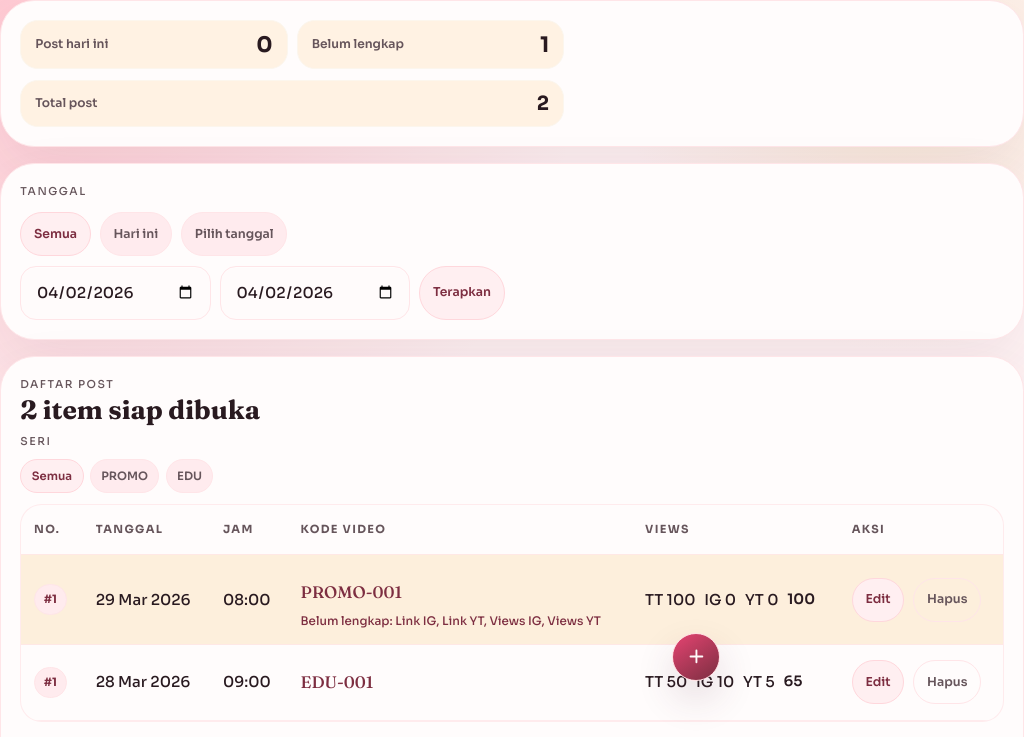
it: OperasionalScreen › shows incomplete hints and can filter to todays posts
Click the button "Hari ini" at (136, 234), box [100,212,172,256]
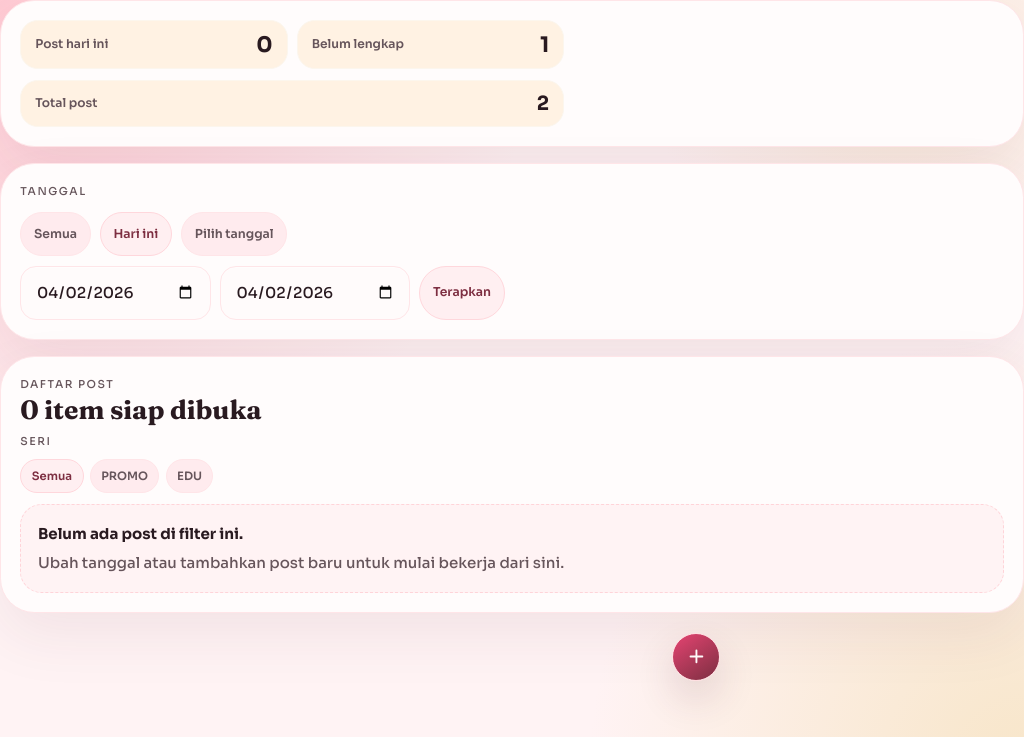
Check: no buttons "EDU-001" are shown
